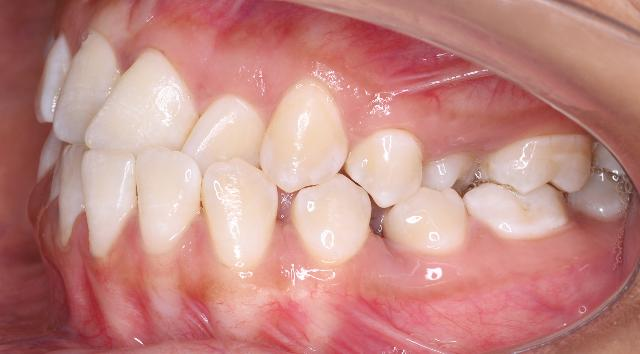canine class I: (203, 74, 375, 282)
molar class I: (466, 127, 604, 246)
